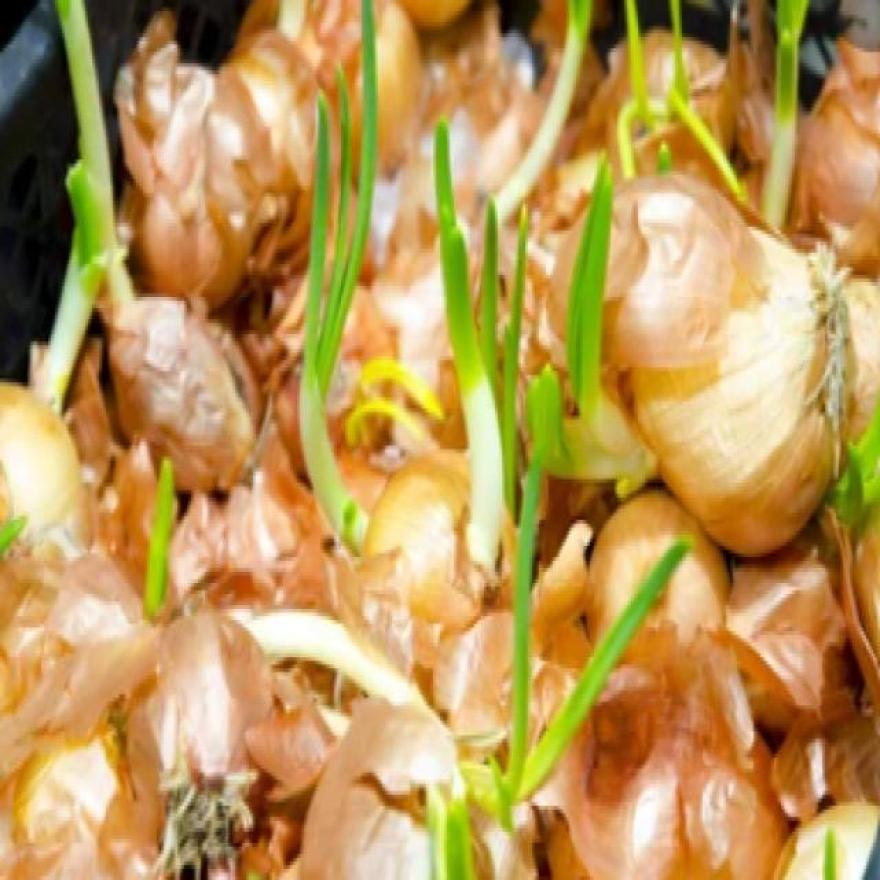Rotten: (170, 322, 260, 464)
Sprouted: (510, 157, 650, 454), (55, 130, 122, 375), (444, 727, 553, 847), (306, 423, 368, 553)
